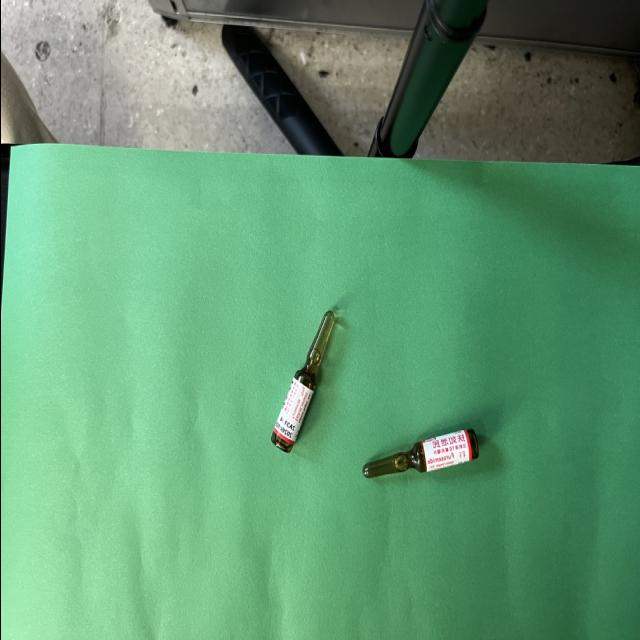Ampoules: (270, 311, 334, 452), (362, 429, 477, 477)
